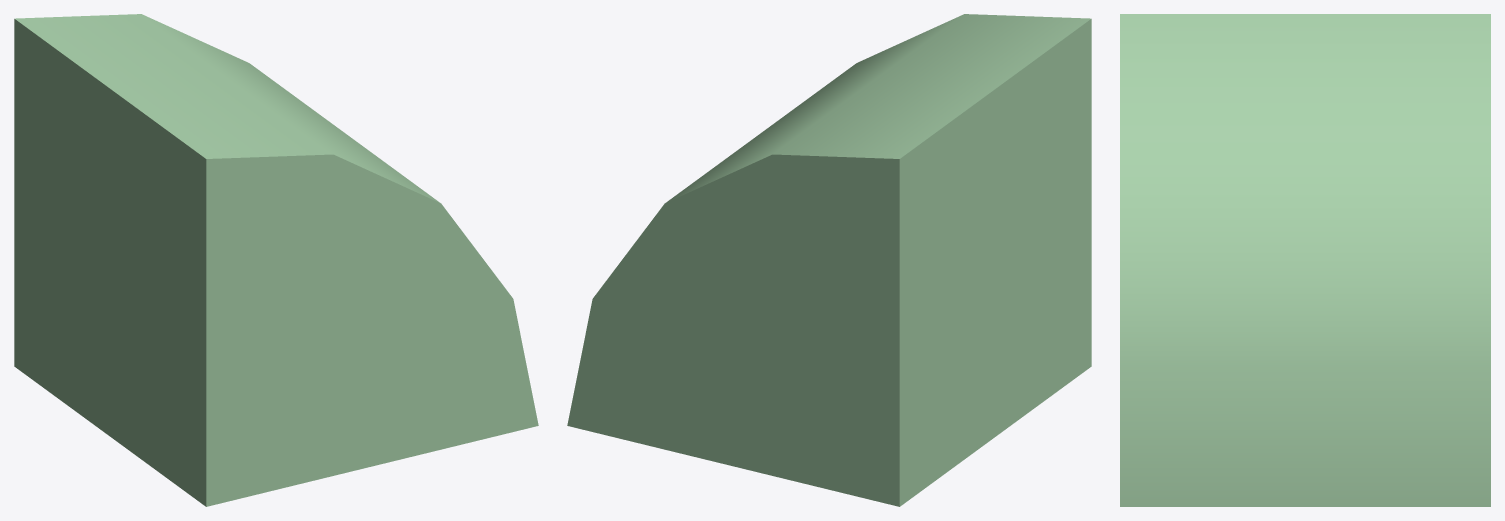
The model's file is GrassCorner.fbx.
The picture shows the model from 3 angles, left to right: view 1: azimuth 30°, elevation 25°; view 2: azimuth 150°, elevation 25°; view 3: azimuth 270°, elevation 25°; orthographic projection. The views are drawn at different scales.
Parts seen in each view (by area): view 1: GrassCorner; view 2: GrassCorner; view 3: GrassCorner.
Boxes of the visible parts, left/top/right/bottom form: GrassCorner: left=14, top=14, right=538, bottom=506; GrassCorner: left=567, top=14, right=1091, bottom=506; GrassCorner: left=1120, top=14, right=1490, bottom=506.
Bounding box in the file's own units: 1 × 1 × 1.
